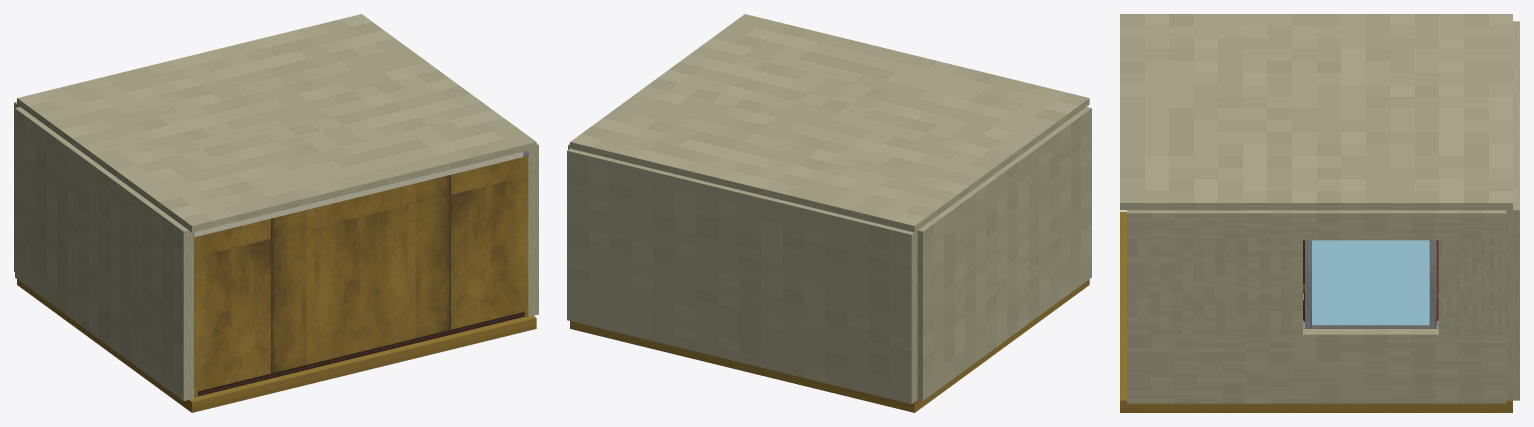
Rendered from room.glb.
3 renders of one model, left to right at view 1: azimuth 30°, elevation 25°; view 2: azimuth 150°, elevation 25°; view 3: azimuth 270°, elevation 25°, orthographic. The views are drawn at different scales.
Parts seen in each view (by area): view 1: Ceiling, West wall, North wallpaper.001, South wallpaper, Floor foundation, Back cornice.001, Back skirting.001, East front, East lower; view 2: Ceiling, North wall, West wall, Floor foundation; view 3: Ceiling, East lower, East front, East upper, Blue evening beyond, East rear, Floor foundation, North wall, Jamb.001, Jamb, Rail.
Part boxes in pixels (x1=…): Ceiling: x1=17, y1=14, x2=536, y2=232; West wall: x1=15, y1=107, x2=194, y2=400; North wallpaper.001: x1=194, y1=187, x2=411, y2=391; South wallpaper: x1=315, y1=156, x2=528, y2=355; Floor foundation: x1=17, y1=279, x2=536, y2=412; Back cornice.001: x1=194, y1=152, x2=523, y2=237; Back skirting.001: x1=198, y1=312, x2=523, y2=396; East front: x1=528, y1=168, x2=538, y2=255; East lower: x1=528, y1=253, x2=538, y2=316; Ceiling: x1=570, y1=14, x2=1089, y2=232; North wall: x1=567, y1=148, x2=917, y2=404; West wall: x1=917, y1=107, x2=1091, y2=400; Floor foundation: x1=570, y1=279, x2=1089, y2=412; Ceiling: x1=1120, y1=14, x2=1512, y2=210; East lower: x1=1127, y1=329, x2=1506, y2=403; East front: x1=1127, y1=239, x2=1302, y2=334; East upper: x1=1127, y1=210, x2=1506, y2=240; Blue evening beyond: x1=1312, y1=240, x2=1429, y2=324; East rear: x1=1438, y1=239, x2=1506, y2=334; Floor foundation: x1=1120, y1=211, x2=1512, y2=412; North wall: x1=1506, y1=21, x2=1519, y2=400; Jamb.001: x1=1429, y1=240, x2=1436, y2=328; Jamb: x1=1305, y1=240, x2=1311, y2=328; Rail: x1=1305, y1=325, x2=1436, y2=328.
Size of the model in its own units: 6.8 by 3.72 by 5.9.
Materials: 40 (29 with a texture image).
